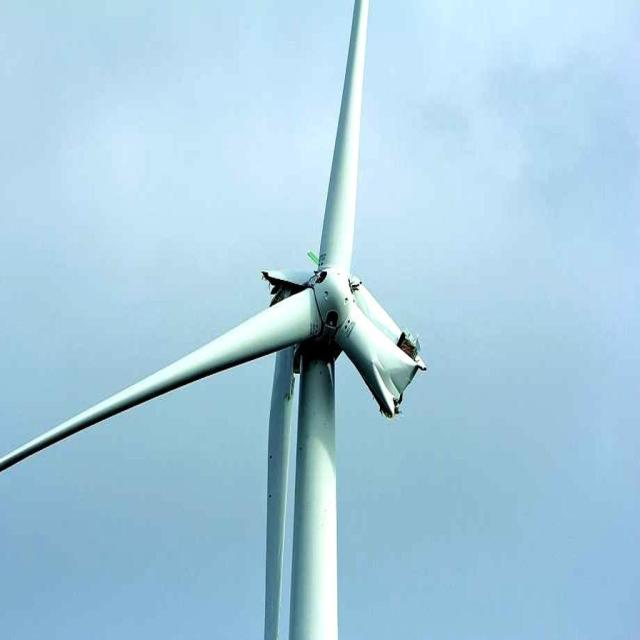crack: (235, 253, 440, 436)
